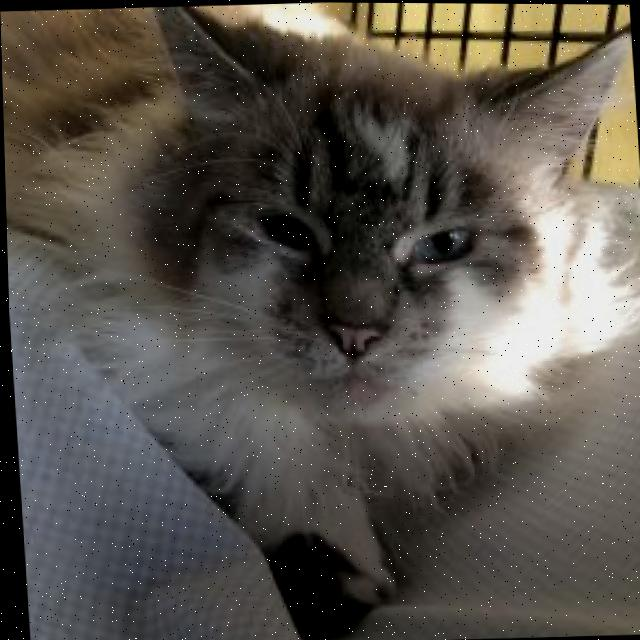Birman: (0, 0, 640, 638)
